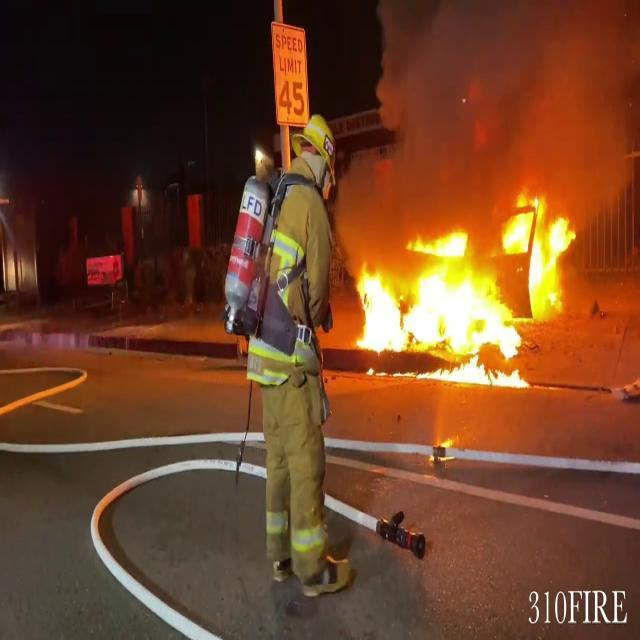Fire: (344, 185, 580, 388)
Smoke: (337, 0, 640, 204)
